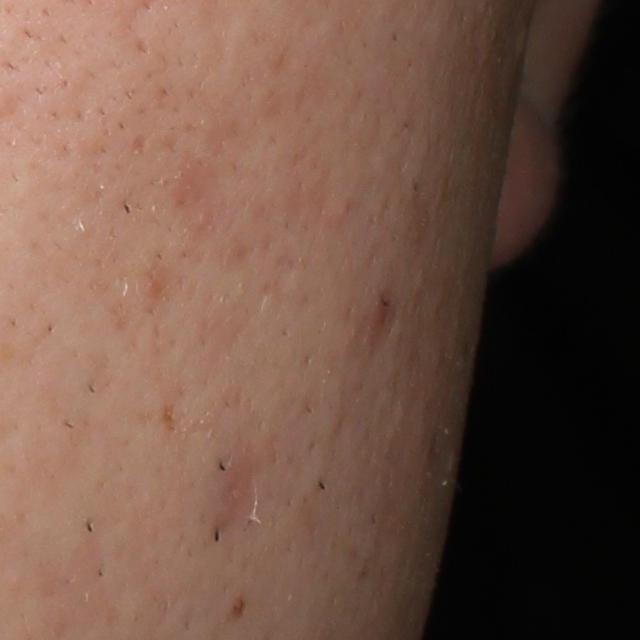nevus: (230, 591, 251, 619)
